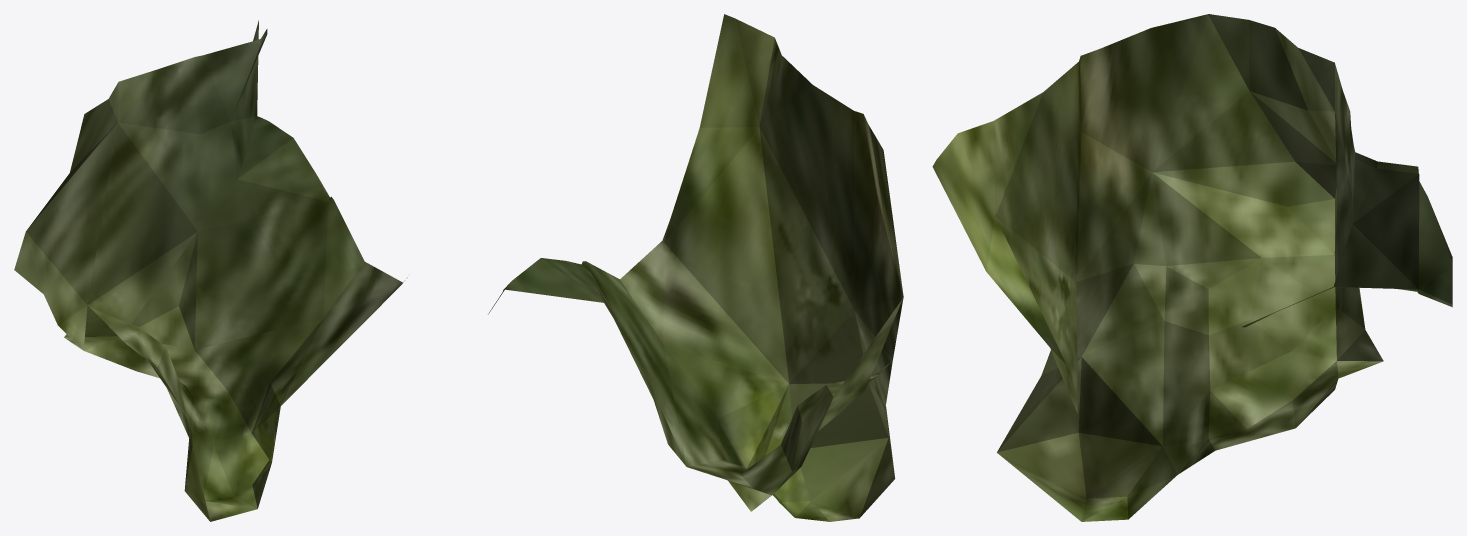
3 renders of one model, left to right at view 1: azimuth 30°, elevation 25°; view 2: azimuth 150°, elevation 25°; view 3: azimuth 270°, elevation 25°, orthographic. The views are drawn at different scales.
Bounding box in the file's own units: 0.7252 × 0.8943 × 0.953.
1 material, 1 textured.
